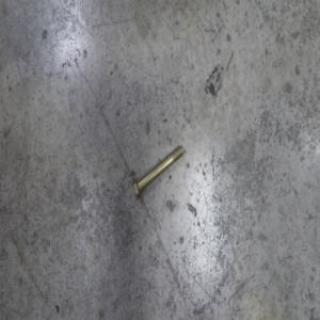Bolttrack_idkeyframe: (130, 140, 184, 202)
